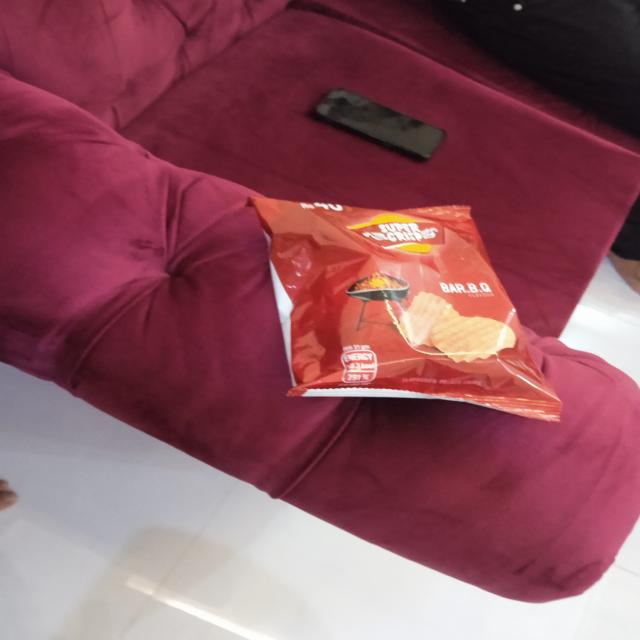Plastic: (244, 194, 560, 420)
